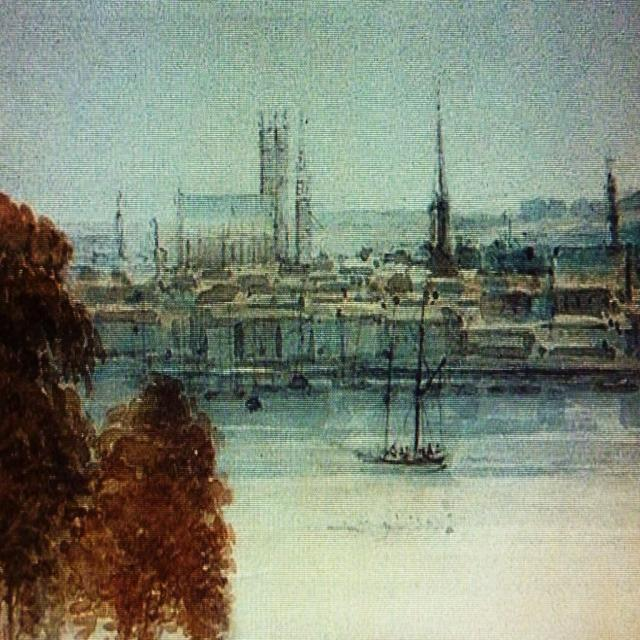Boat: (362, 295, 451, 472)
